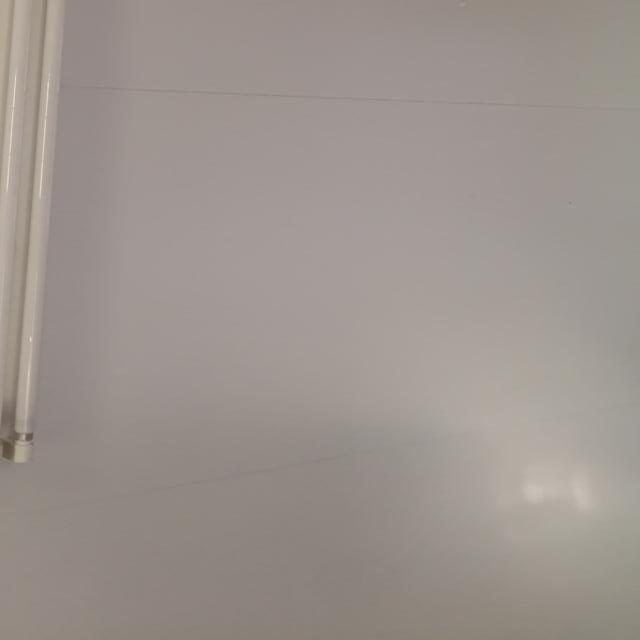fluorescent tube: (0, 0, 138, 506)
